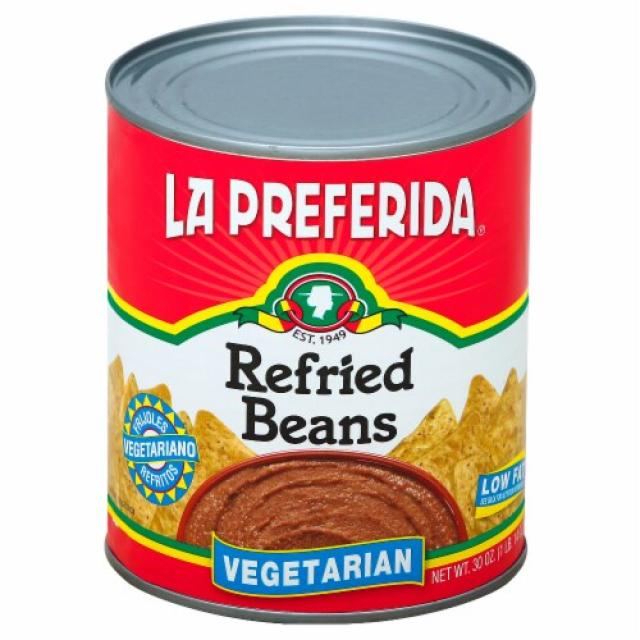Lata: (99, 12, 530, 627)
